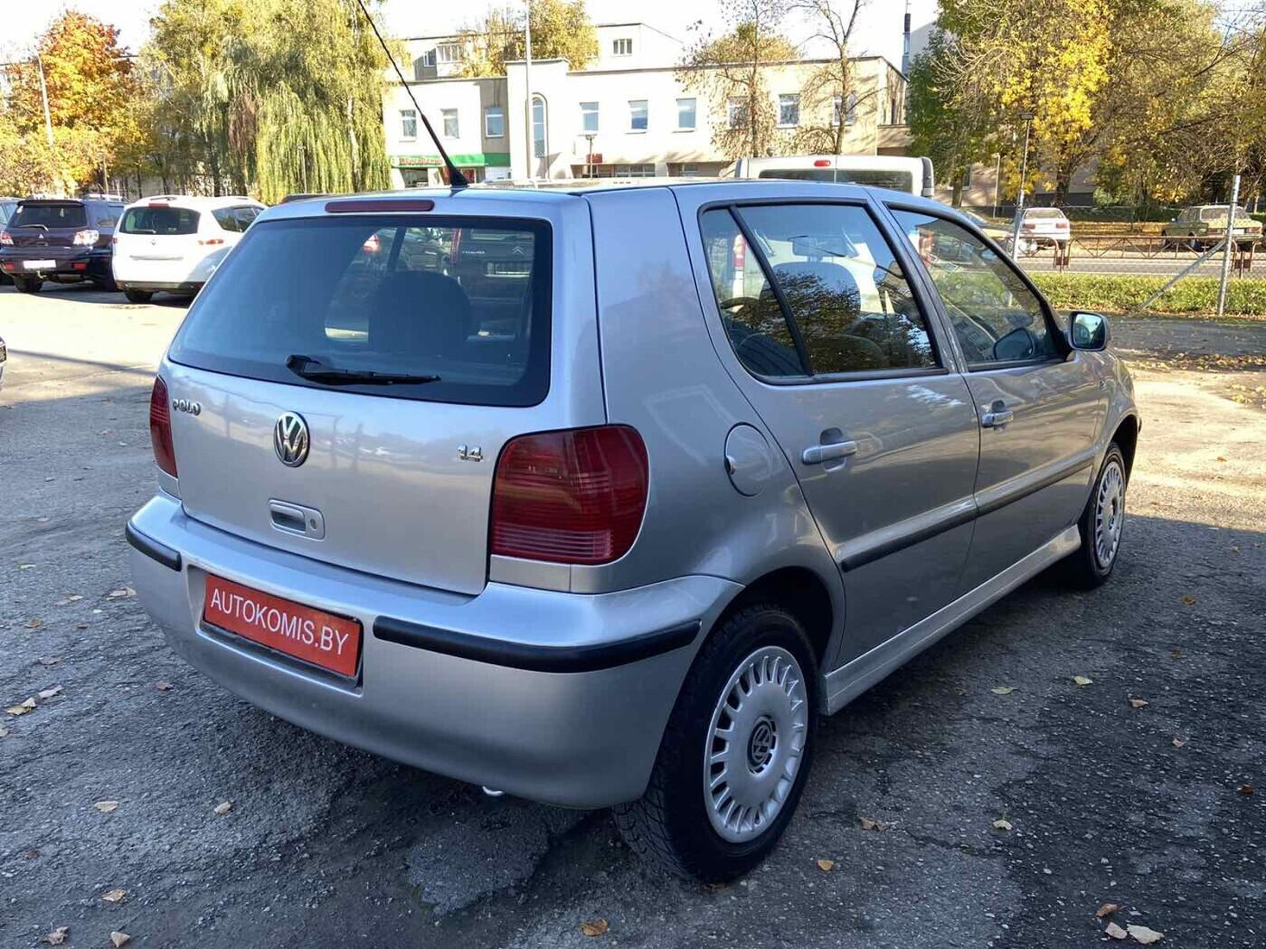Polo_2000-2002: (119, 159, 1139, 902)
